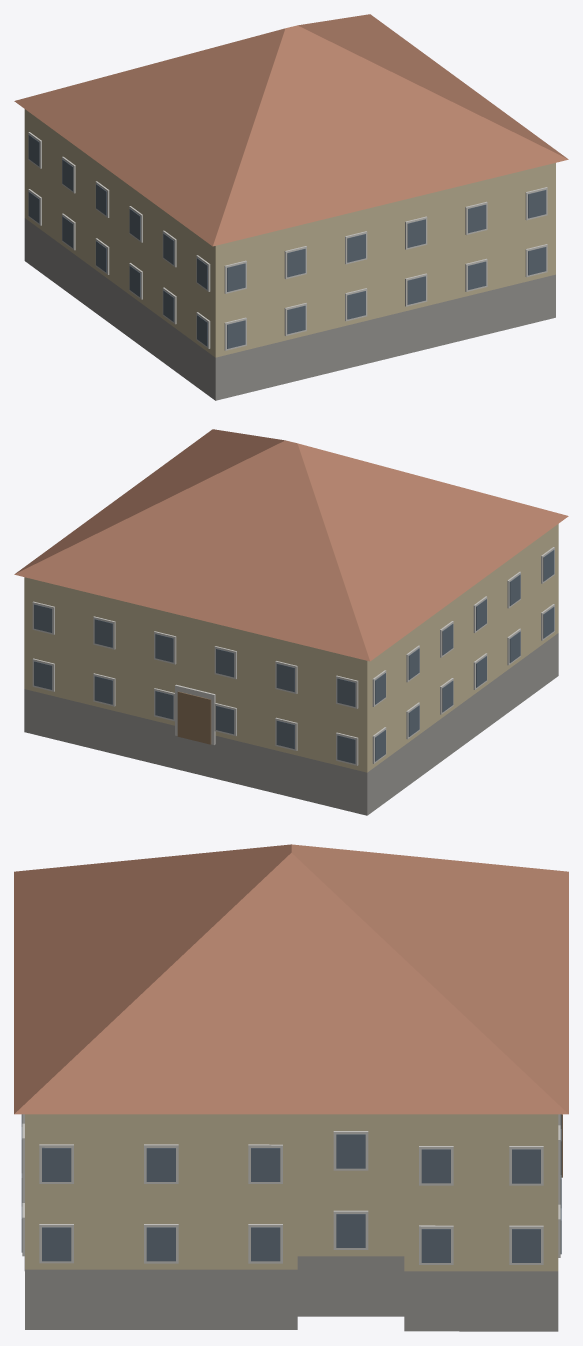
File: landmark-civic-436214915.glb
3 views of the same model, one above another, from view 1: azimuth 30°, elevation 25°; view 2: azimuth 150°, elevation 25°; view 3: azimuth 270°, elevation 25° (orthographic). The views are drawn at different scales.
Visible parts, largest first — view 1: building; view 2: building; view 3: building.
Part boxes in pixels (<box>): building: <box>14,14,568,400</box>; building: <box>14,429,568,815</box>; building: <box>14,844,568,1331</box>.
Size of the model in its own units: 21.61 by 15.2 by 20.88.
